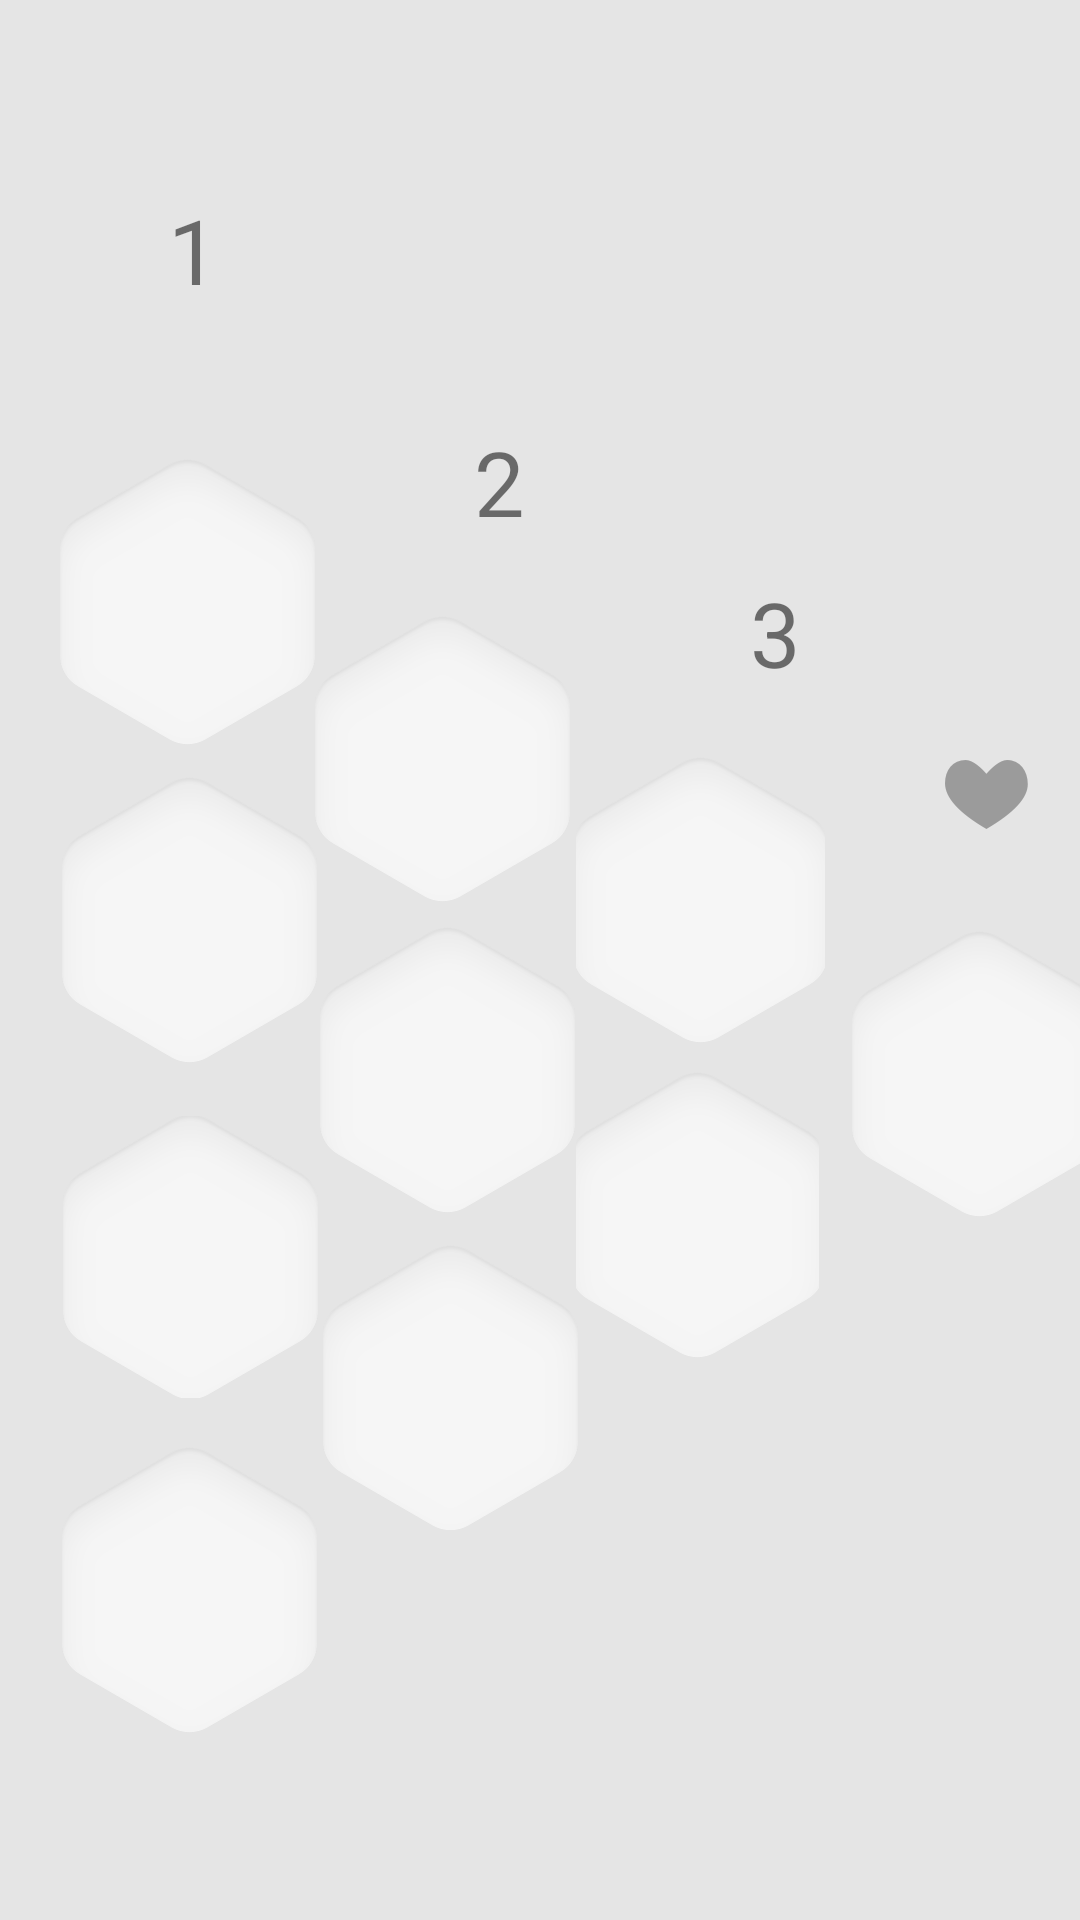

Locate icon controls on the screen. Image size 1080px x 1920px, boxes as (x1, y1, x2, y2).
heart: (945, 760, 1028, 829)
